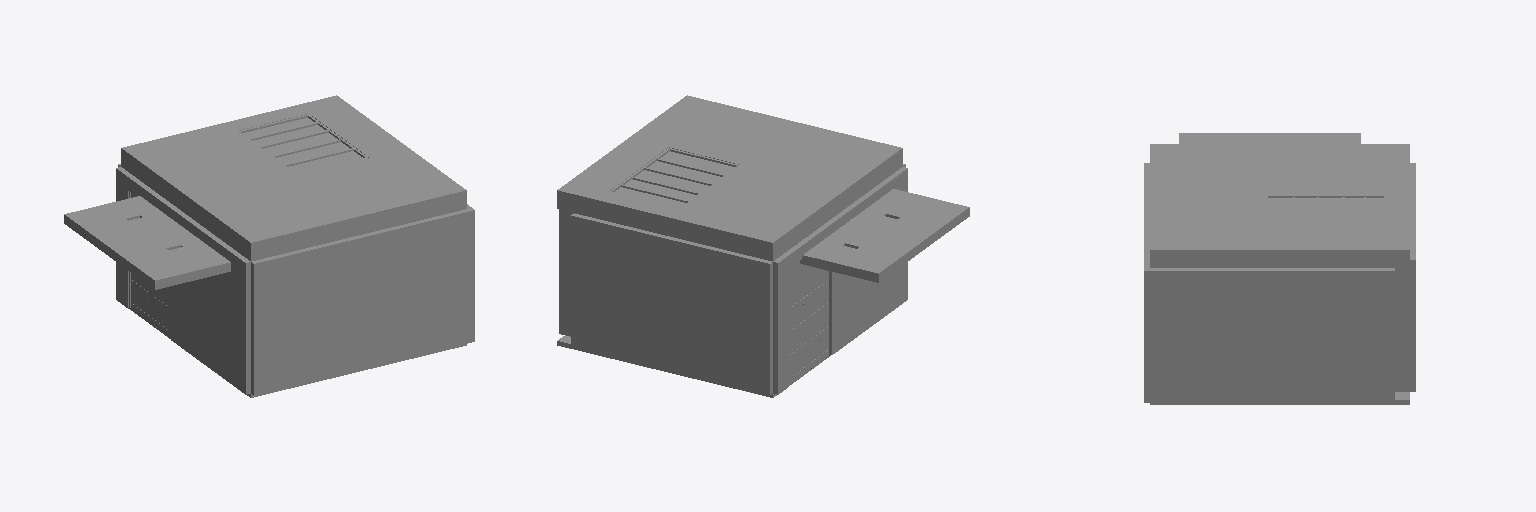
The model's file is kitchen10_layout.obj.
The picture shows the model from 3 angles: view 1: azimuth 30°, elevation 25°; view 2: azimuth 150°, elevation 25°; view 3: azimuth 270°, elevation 25°; orthographic projection.
Parts seen in each view (by area): view 1: Walls.132, Wall.1234, ceiling.024, Window.123, Door.1231; view 2: Walls.132, Wall.1234, ceiling.024, Door.1231, Window.123, Floor.1001; view 3: Walls.132, Wall.1234, Window.123, ceiling.024, Floor.1001.
Boxes of the visible parts, x1,y1,x2,y2 form: Walls.132: [116, 164, 474, 395]; Wall.1234: [121, 95, 466, 261]; ceiling.024: [64, 196, 230, 289]; Window.123: [237, 114, 367, 174]; Door.1231: [127, 188, 170, 338]; Walls.132: [559, 164, 907, 395]; Wall.1234: [557, 95, 902, 261]; ceiling.024: [800, 189, 969, 282]; Door.1231: [789, 258, 832, 385]; Window.123: [609, 148, 739, 208]; Floor.1001: [557, 335, 830, 397]; Walls.132: [1144, 163, 1415, 402]; Wall.1234: [1150, 144, 1409, 267]; Window.123: [1266, 195, 1385, 229]; ceiling.024: [1179, 133, 1360, 143]; Floor.1001: [1150, 392, 1409, 404].
Bounding box in the file's own units: 6.73 × 3.3 × 5.24.